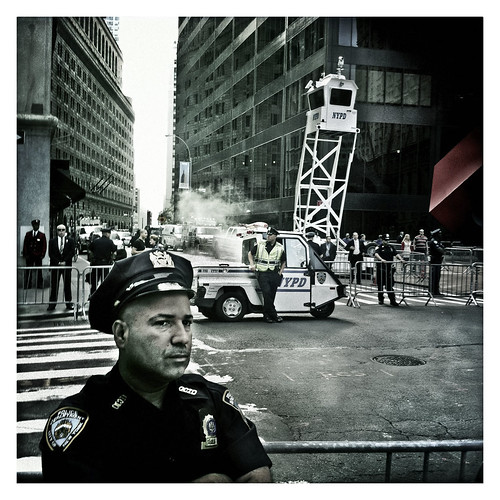building: (175, 1, 500, 222), (5, 22, 147, 234)
crosswalk: (15, 322, 140, 479)
police car: (195, 228, 338, 322)
policeman: (39, 255, 263, 476), (254, 225, 290, 325), (373, 235, 414, 306), (425, 230, 447, 299)
